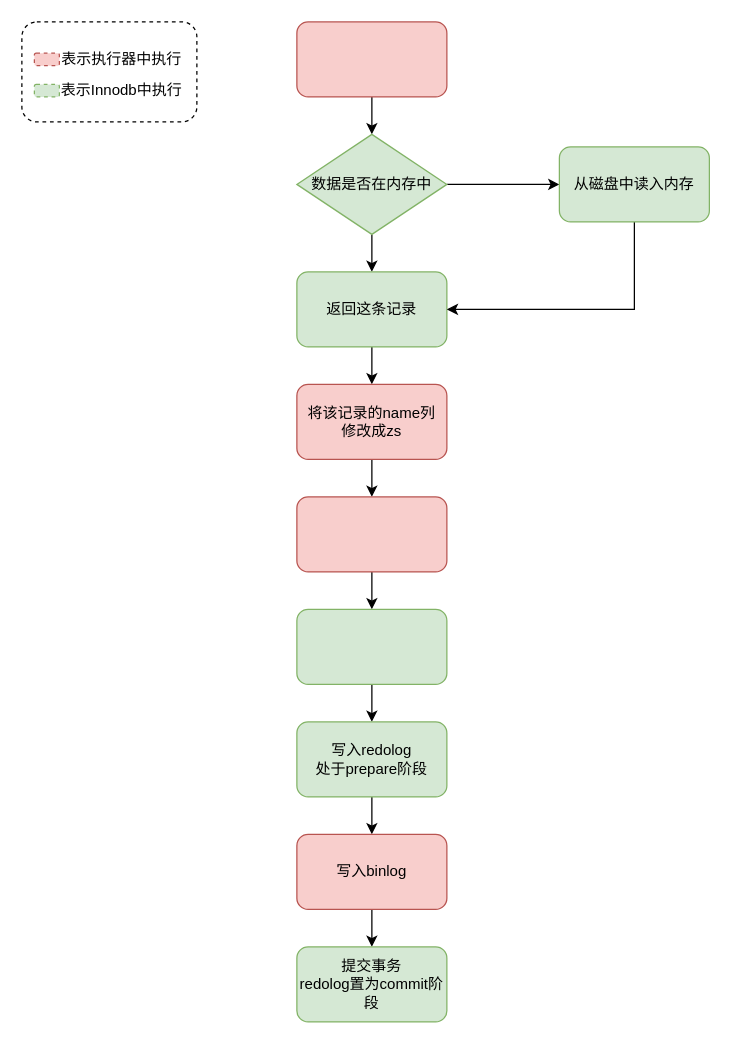
Some shapes in this 731 by 1044 pixel diagram are drawn without their labels. Here are the shapes that lost their labels. From the top down, the centre of each, then its label:
(x=371, y=59): 获取id=123的记录
(x=371, y=534): 写入新记录
(x=371, y=646): 新记录更新到内存
